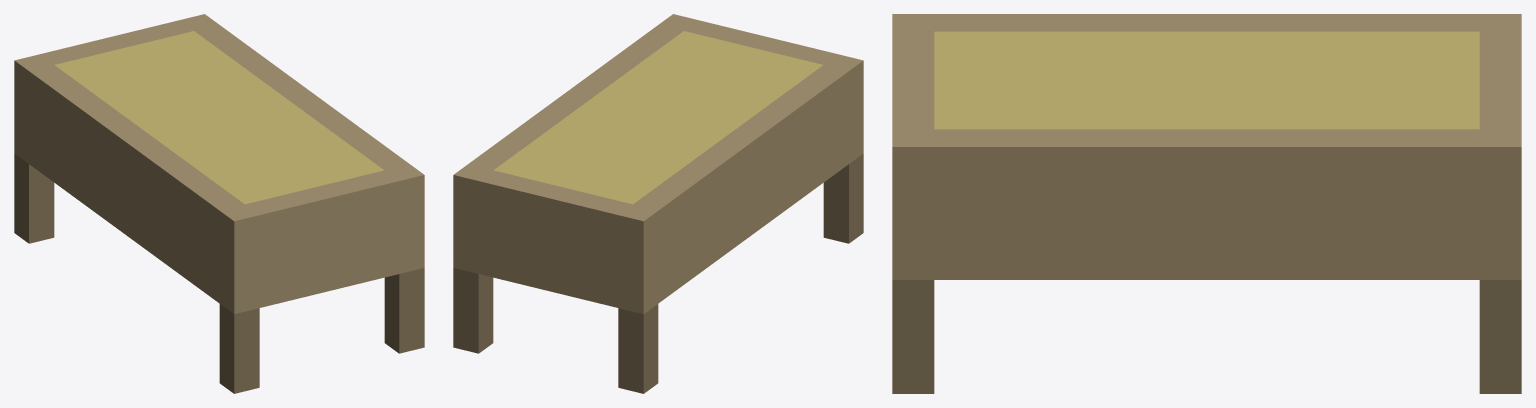
File: pesebre_01.glb
3 views of the same model, side by side, from view 1: azimuth 30°, elevation 25°; view 2: azimuth 150°, elevation 25°; view 3: azimuth 270°, elevation 25° (orthographic). The views are drawn at different scales.
Visible parts, largest first — view 1: pesebre; view 2: pesebre; view 3: pesebre.
Boxes of the visible parts, x1,y1,x2,y2 form: pesebre: (14, 14, 424, 393); pesebre: (453, 14, 863, 393); pesebre: (892, 14, 1521, 393).
Bounding box in the file's own units: 1 × 0.8667 × 2.
